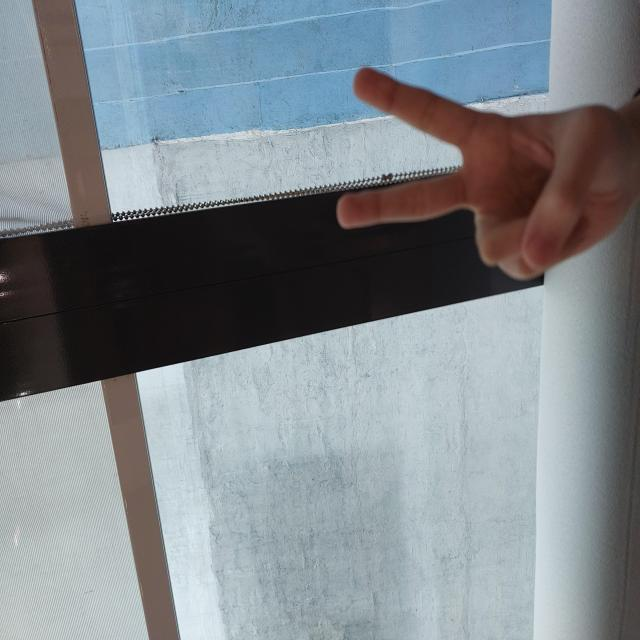V: (358, 335, 573, 640)
